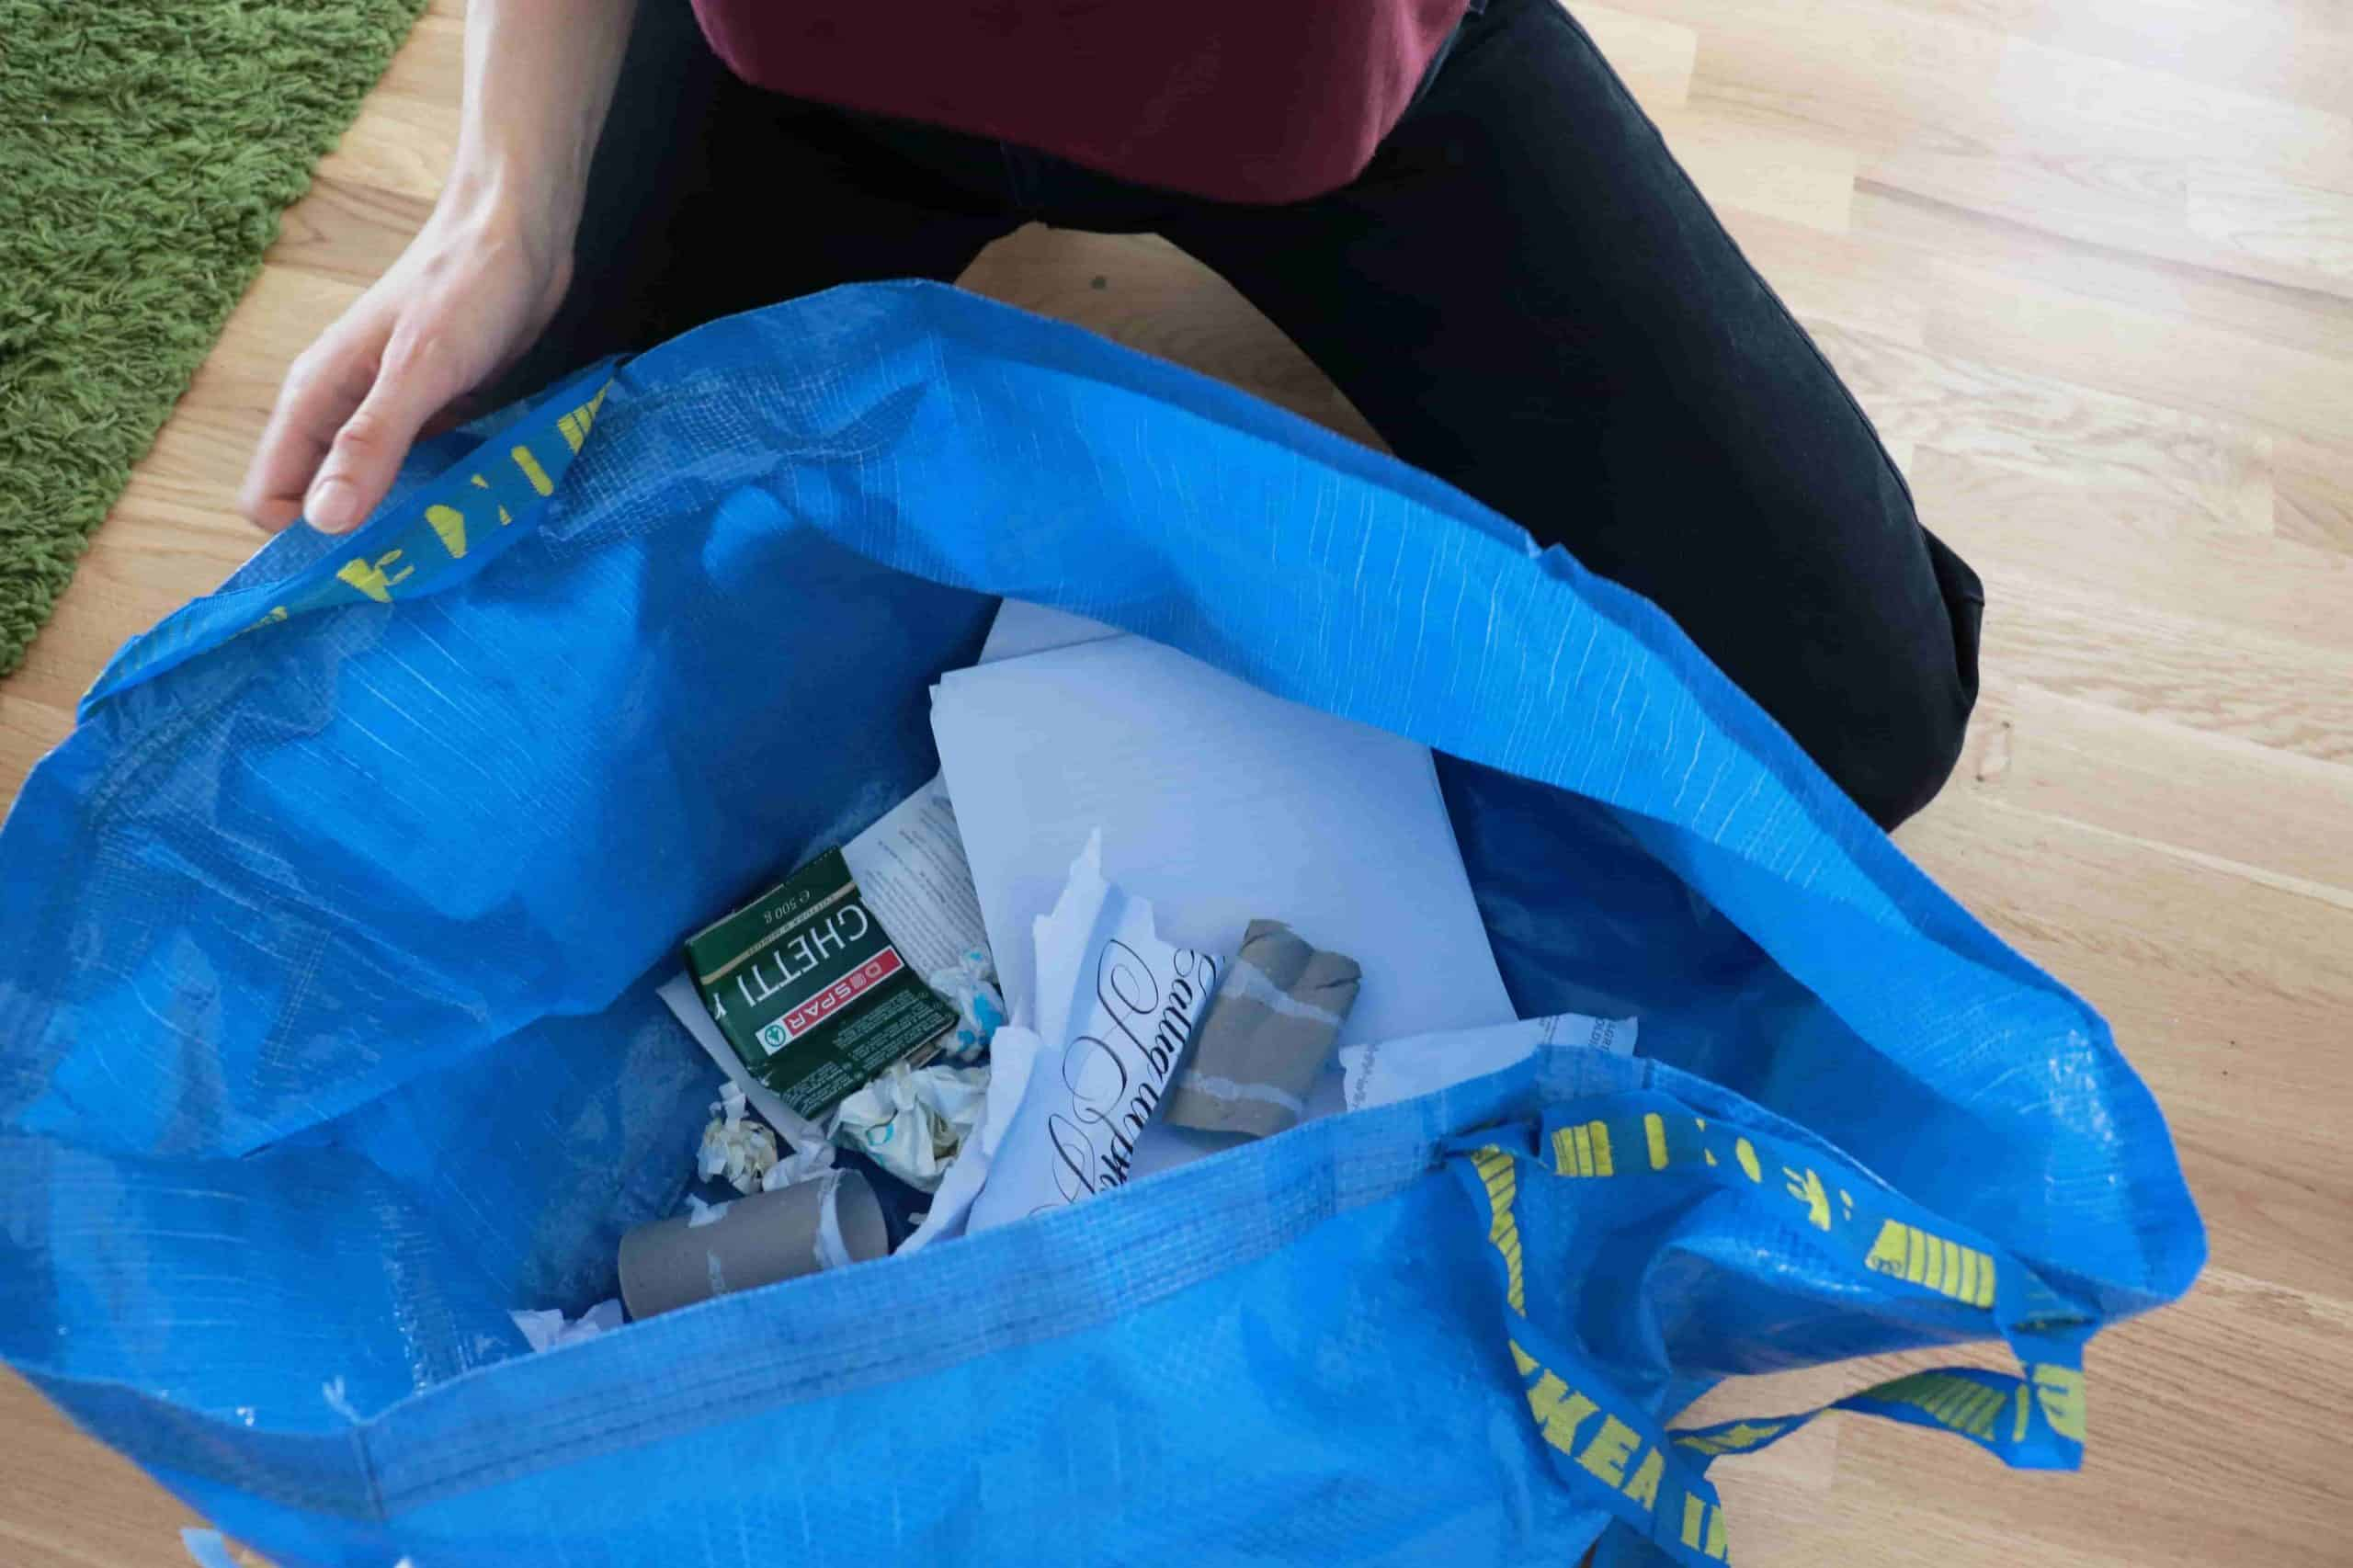plastic_bagwdw: (2, 271, 2222, 1568)
